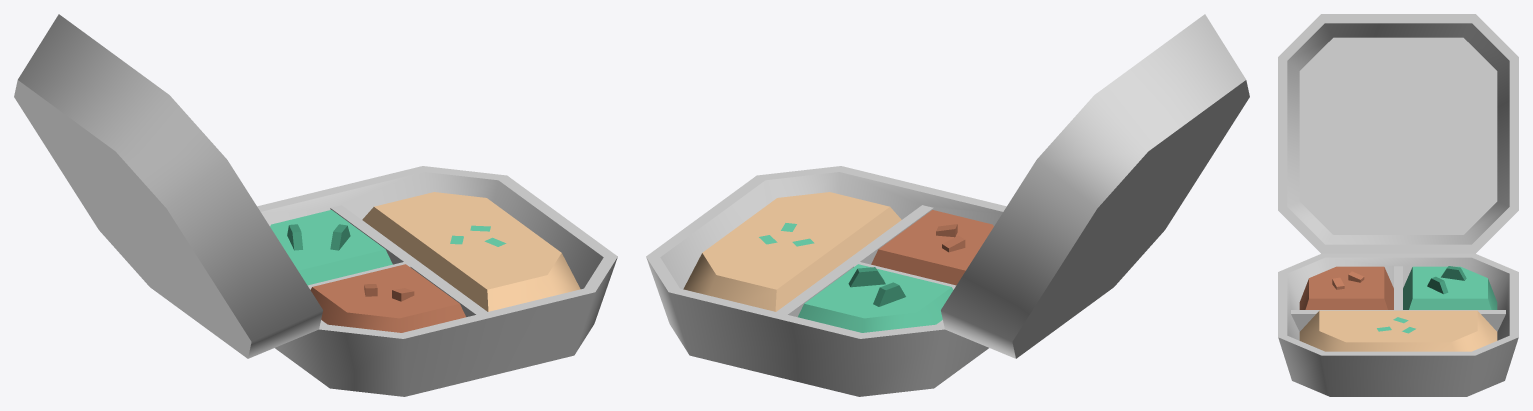
The model's file is styrofoamDinner.obj.
3 renders of one model, left to right at view 1: azimuth 30°, elevation 25°; view 2: azimuth 150°, elevation 25°; view 3: azimuth 270°, elevation 25°, orthographic. The views are drawn at different scales.
Visible parts, largest first — view 1: styrofoamDinner, lid; view 2: styrofoamDinner, lid; view 3: lid, styrofoamDinner.
Part boxes in pixels (bbox=[...]): styrofoamDinner: bbox=[257, 166, 617, 396]; lid: bbox=[14, 14, 322, 358]; styrofoamDinner: bbox=[646, 166, 1006, 396]; lid: bbox=[941, 14, 1249, 358]; lid: bbox=[1278, 14, 1518, 253]; styrofoamDinner: bbox=[1278, 253, 1518, 396].
Bounding box in the file's own units: 1.26 × 0.822 × 0.7589.
